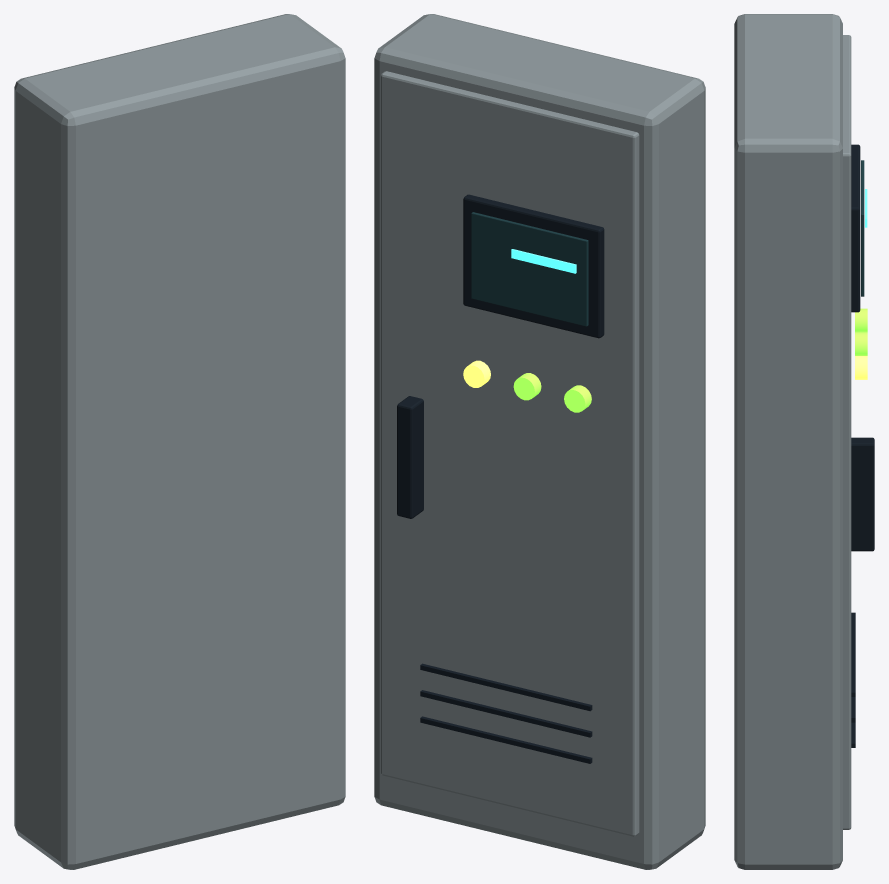
File: SM_VR_ControlCabinet.fbx
3 renders of one model, left to right at view 1: azimuth 30°, elevation 25°; view 2: azimuth 150°, elevation 25°; view 3: azimuth 270°, elevation 25°, orthographic. The views are drawn at different scales.
Visible parts, largest first — view 1: SM_VR_ControlCabinet; view 2: SM_VR_ControlCabinet; view 3: SM_VR_ControlCabinet.
Boxes of the visible parts, left/top/right/bottom form: SM_VR_ControlCabinet: left=14, top=14, right=345, bottom=869; SM_VR_ControlCabinet: left=374, top=14, right=705, bottom=869; SM_VR_ControlCabinet: left=734, top=14, right=874, bottom=869.
Size of the model in its own units: 45 by 20 by 115.
